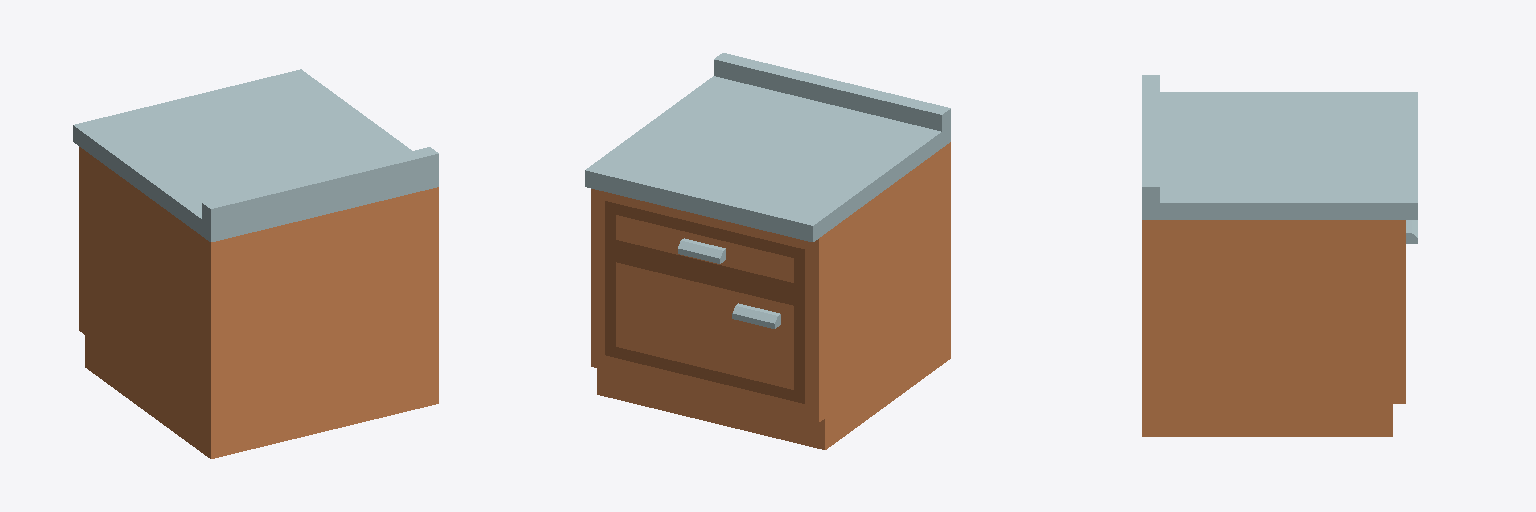
The model's file is kitchenCabinetDrawer.obj.
3 renders of one model, left to right at view 1: azimuth 30°, elevation 25°; view 2: azimuth 150°, elevation 25°; view 3: azimuth 270°, elevation 25°, orthographic.
Parts seen in each view (by area): view 1: kitchenCabinetDrawer; view 2: kitchenCabinetDrawer, door, drawer.002; view 3: kitchenCabinetDrawer.
Boxes of the visible parts, box(x1,y1,x2,y2) form: kitchenCabinetDrawer: box(73, 69, 438, 458); kitchenCabinetDrawer: box(585, 53, 950, 449); door: box(605, 248, 804, 403); drawer.002: box(605, 201, 804, 296); kitchenCabinetDrawer: box(1142, 75, 1417, 436).
Size of the model in its own units: 0.43 by 0.45 by 0.45.